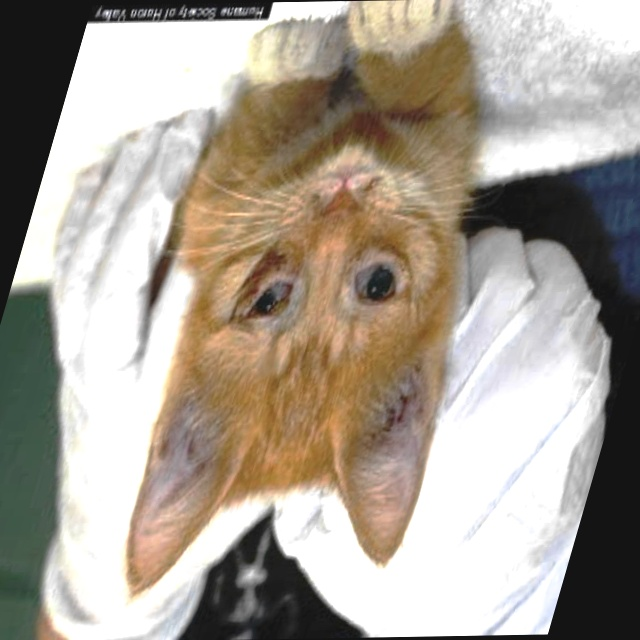eye_infection: (339, 259, 408, 307), (230, 275, 298, 317)
